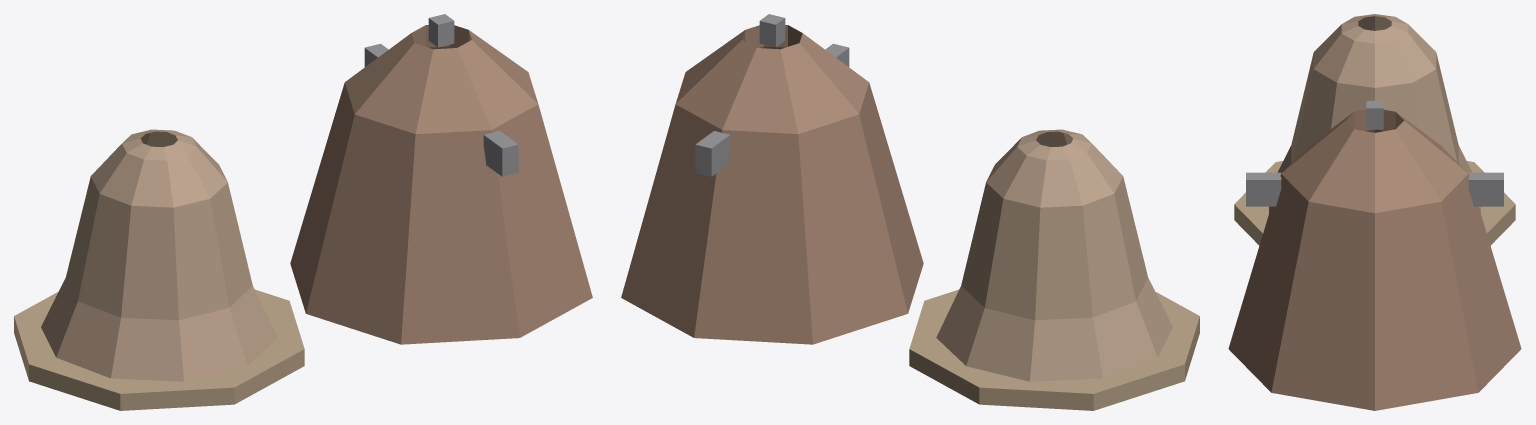
The model's file is prop-cope-drag-set.fbx.
3 renders of one model, left to right at view 1: azimuth 30°, elevation 25°; view 2: azimuth 150°, elevation 25°; view 3: azimuth 270°, elevation 25°, orthographic. The views are drawn at different scales.
Parts seen in each view (by area): view 1: prop-cope-drag-set; view 2: prop-cope-drag-set; view 3: prop-cope-drag-set.
Boxes of the visible parts, x1,y1,x2,y2 form: prop-cope-drag-set: [14, 14, 592, 410]; prop-cope-drag-set: [621, 14, 1199, 410]; prop-cope-drag-set: [1228, 14, 1521, 410].
Bounding box in the file's own units: 101 × 46 × 50.
